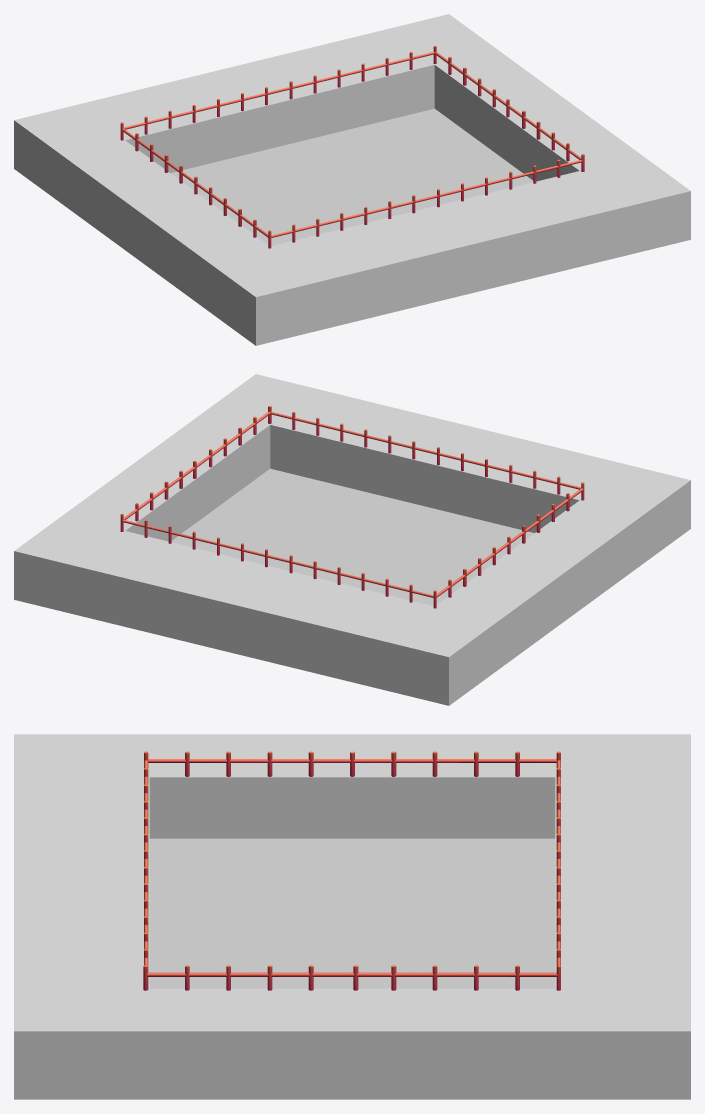
Rendered from Duel_Stage 9.fbx.
3 views of the same model, one above another, from view 1: azimuth 30°, elevation 25°; view 2: azimuth 150°, elevation 25°; view 3: azimuth 270°, elevation 25° (orthographic). The views are drawn at different scales.
Parts seen in each view (by area): view 1: Platform_Cube__1_.008, Cube.070; view 2: Platform_Cube__1_.008, Cube.070; view 3: Platform_Cube__1_.008, Cube.070.
Part boxes in pixels (x1,y1,x2,y2): Platform_Cube__1_.008: [14, 14, 690, 345]; Cube.070: [120, 46, 584, 248]; Platform_Cube__1_.008: [14, 374, 690, 705]; Cube.070: [120, 406, 584, 608]; Platform_Cube__1_.008: [14, 734, 690, 1099]; Cube.070: [143, 751, 560, 990].
Bounding box in the file's own units: 9349 × 1346 × 9004.
